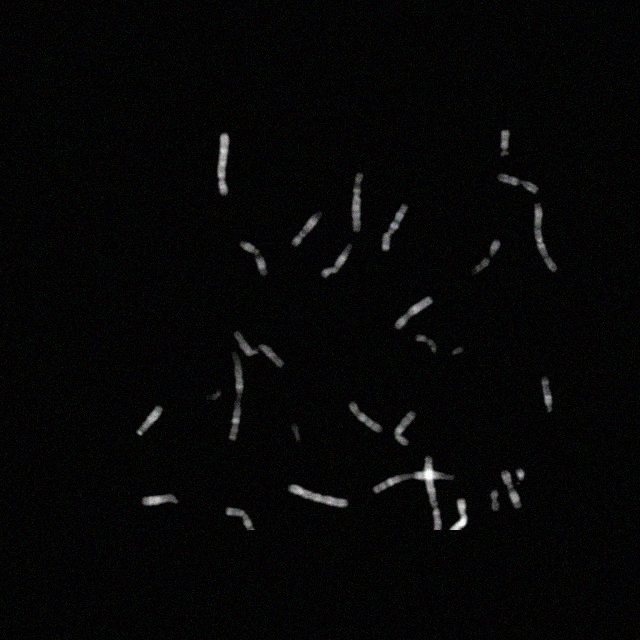chromosome: (374, 471, 454, 494), (535, 203, 559, 271), (288, 483, 348, 507), (395, 296, 433, 330), (382, 203, 408, 250), (426, 455, 442, 529), (230, 352, 243, 440), (292, 211, 322, 247), (322, 243, 352, 279), (348, 402, 382, 432), (240, 242, 268, 276), (475, 240, 501, 276), (498, 173, 538, 193), (136, 405, 162, 435), (501, 470, 521, 508), (394, 412, 414, 446), (226, 506, 254, 530), (236, 330, 260, 356), (218, 133, 228, 194), (352, 172, 362, 232), (449, 498, 467, 530), (260, 344, 284, 366), (143, 494, 179, 508), (416, 334, 436, 354), (541, 378, 553, 410), (499, 130, 509, 156), (490, 491, 500, 512), (292, 423, 302, 443), (451, 346, 465, 358), (516, 469, 524, 483), (210, 390, 220, 400)
